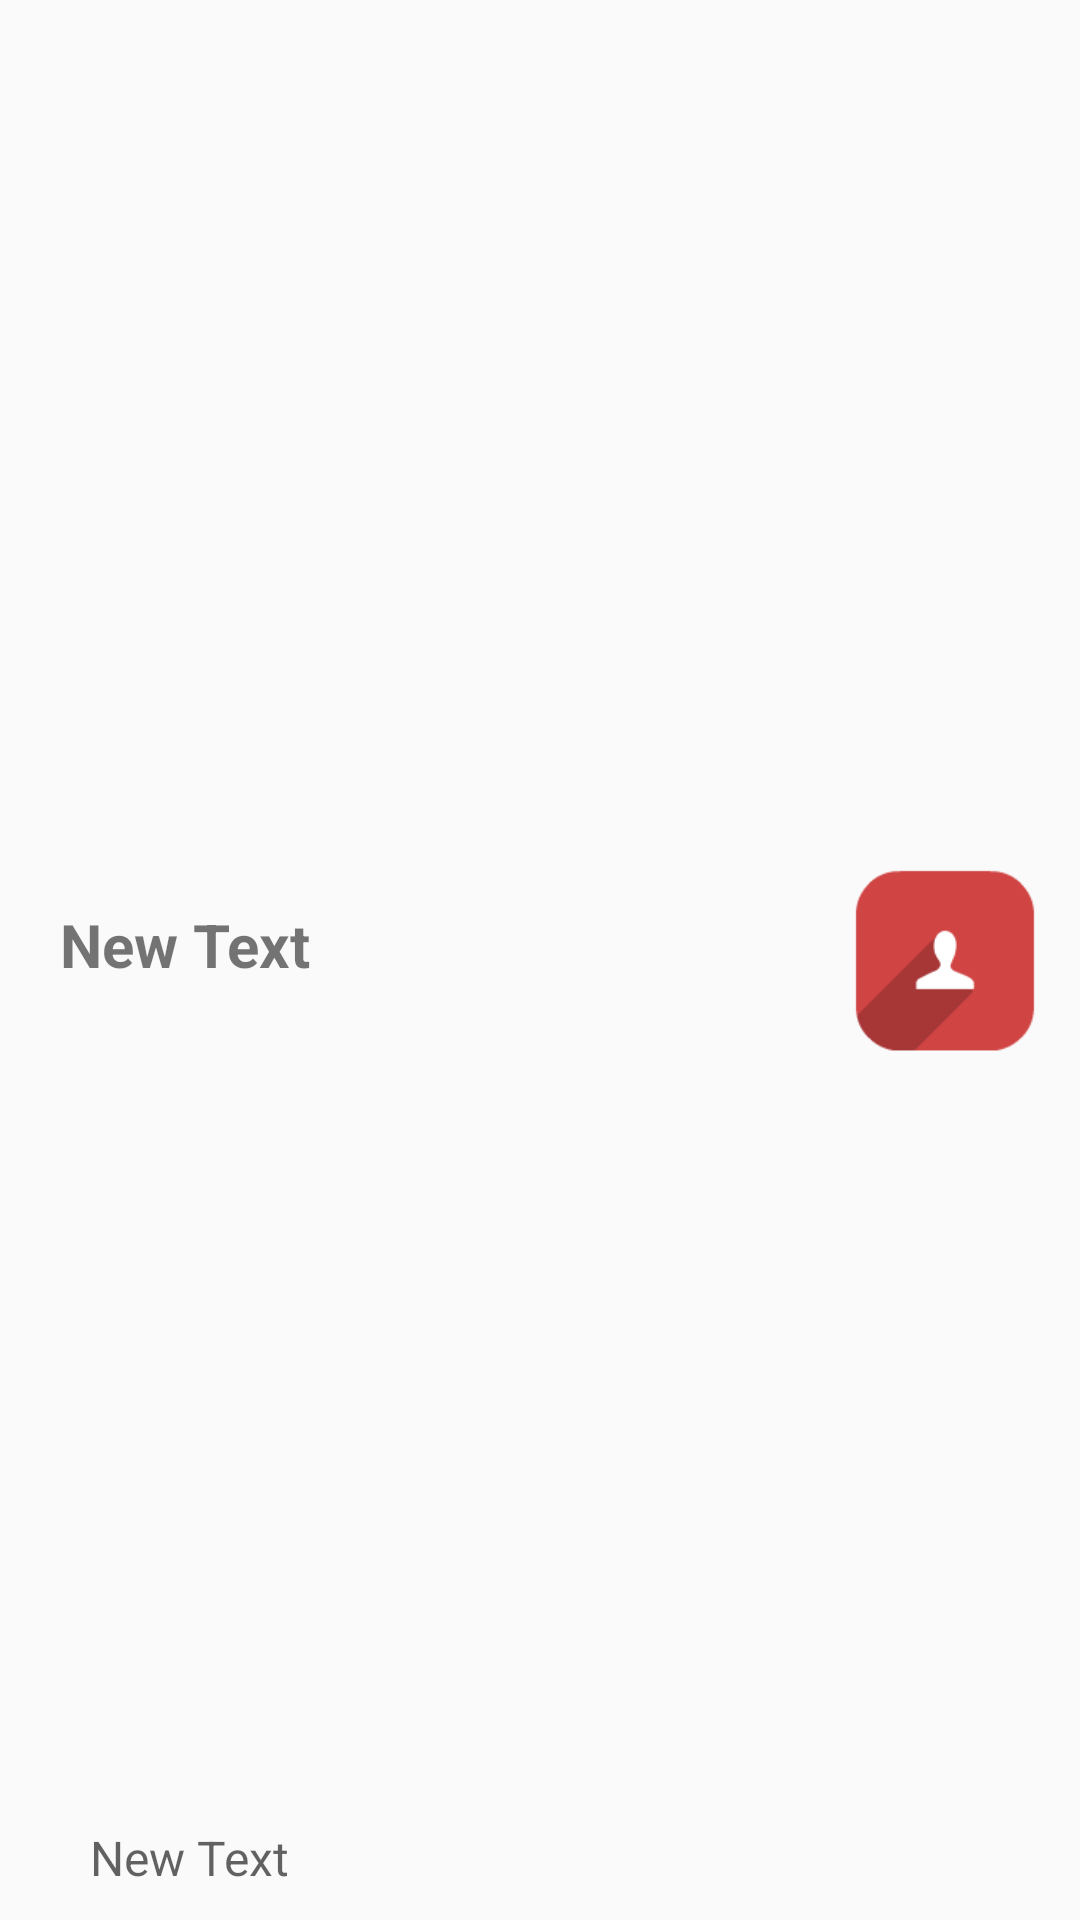

Icons on this 1080x1920 Android screen, each with the point to tap as point (x, y):
contacts: point (945, 961)
